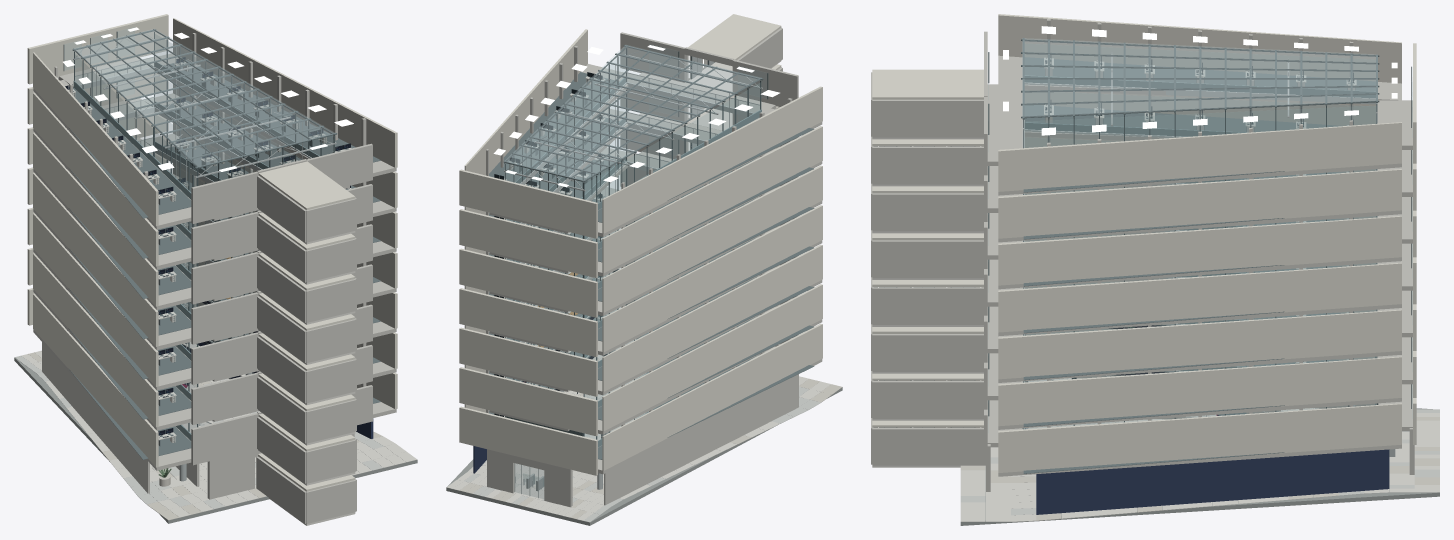
The model's file is paternoster.glb.
3 views of the same model, side by side, from view 1: azimuth 30°, elevation 25°; view 2: azimuth 150°, elevation 25°; view 3: azimuth 270°, elevation 25° (orthographic). The views are drawn at different scales.
Visible parts, largest first — view 1: OfficeBack_OfficeWall, LiftLobbyWall_Limestone, RoofGlazing_RoofGlass, LiftLobbyWalls_Limestone, LiftLobbyBack_Limestone, OfficeCarpet_Carpet, FloorSlabs_Limestone, GlassWalls_Glass, EndWalls_OfficeWall, LiftLobbyCeiling_OfficeWall, RoofStructure_SteelDark, FloorTiles_StoneLight (+19 smaller); view 2: OfficeBack_OfficeWall, EndWalls_OfficeWall, RoofGlazing_RoofGlass, FloorSlabs_Limestone, GlassWalls_Glass, OfficeCarpet_Carpet, LiftLobbyWall_Limestone, ReceptionWall_Limestone, RoofStructure_SteelDark, FloorTiles_StoneLight, Spandrels_Spandrel, Mullions_Frame (+17 smaller); view 3: OfficeBack_OfficeWall, LiftLobbyWalls_Limestone, FloorSlabs_Limestone, RoofGlazing_RoofGlass, GlassWalls_Glass, ReceptionWall_Reception, OfficeCarpet_Carpet, LiftLobbyCeiling_OfficeWall, RoofStructure_SteelDark, FloorTiles_StoneLight, Spandrels_Spandrel, Ground_Grout (+10 smaller).
Part boxes in pixels (x1,y1,x2,y2): OfficeBack_OfficeWall: (33,18,397,467); LiftLobbyWall_Limestone: (191,143,372,465); RoofGlazing_RoofGlass: (73,29,335,167); LiftLobbyWalls_Limestone: (256,175,356,523); LiftLobbyBack_Limestone: (306,198,355,523); OfficeCarpet_Carpet: (68,60,380,459); FloorSlabs_Limestone: (33,53,396,470); GlassWalls_Glass: (74,34,333,432); EndWalls_OfficeWall: (27,14,168,325); LiftLobbyCeiling_OfficeWall: (258,161,355,491); RoofStructure_SteelDark: (72,29,337,168); FloorTiles_StoneLight: (21,350,416,517); OfficeBack_OfficeWall: (464,29,822,470); EndWalls_OfficeWall: (459,169,597,475); RoofGlazing_RoofGlass: (504,45,761,180); FloorSlabs_Limestone: (489,64,822,474); GlassWalls_Glass: (506,50,760,440); OfficeCarpet_Carpet: (489,72,814,459); LiftLobbyWall_Limestone: (620,32,798,344); ReceptionWall_Limestone: (604,374,798,505); RoofStructure_SteelDark: (503,45,763,182); FloorTiles_StoneLight: (446,344,830,520); Spandrels_Spandrel: (515,78,761,447); Mullions_Frame: (505,48,761,439); OfficeBack_OfficeWall: (998,14,1401,472); LiftLobbyWalls_Limestone: (872,99,985,465); FloorSlabs_Limestone: (987,55,1412,476); RoofGlazing_RoofGlass: (1022,38,1377,117); GlassWalls_Glass: (1024,44,1376,428); ReceptionWall_Reception: (1036,449,1389,514); OfficeCarpet_Carpet: (1023,57,1375,473); LiftLobbyCeiling_OfficeWall: (872,69,983,427); RoofStructure_SteelDark: (1021,38,1379,119); FloorTiles_StoneLight: (960,408,1439,521); Spandrels_Spandrel: (1024,75,1375,371); Ground_Grout: (960,408,1439,525).
Size of the model in its own units: 26.58 by 33.02 by 45.1.
26 materials, 3 textured.
